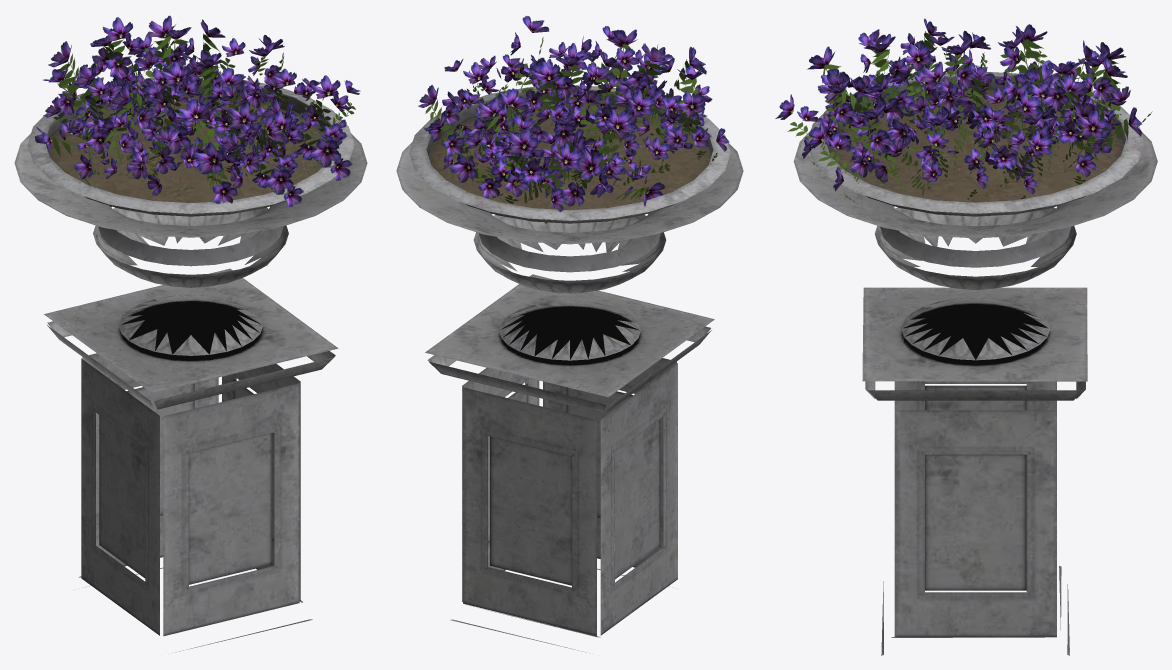
File: garden-urn.glb
The picture shows the model from 3 angles, left to right: view 1: azimuth 30°, elevation 25°; view 2: azimuth 150°, elevation 25°; view 3: azimuth 270°, elevation 25°; orthographic projection. The views are drawn at different scales.
Visible parts, largest first — view 1: garden-urn; view 2: garden-urn; view 3: garden-urn.
Boxes of the visible parts, left/top/right/bottom form: garden-urn: left=14, top=15, right=367, bottom=652; garden-urn: left=396, top=16, right=743, bottom=652; garden-urn: left=775, top=18, right=1157, bottom=655.
Size of the model in its own units: 0.9991 by 1.73 by 1.06.
Materials: 2 (2 with a texture image).
